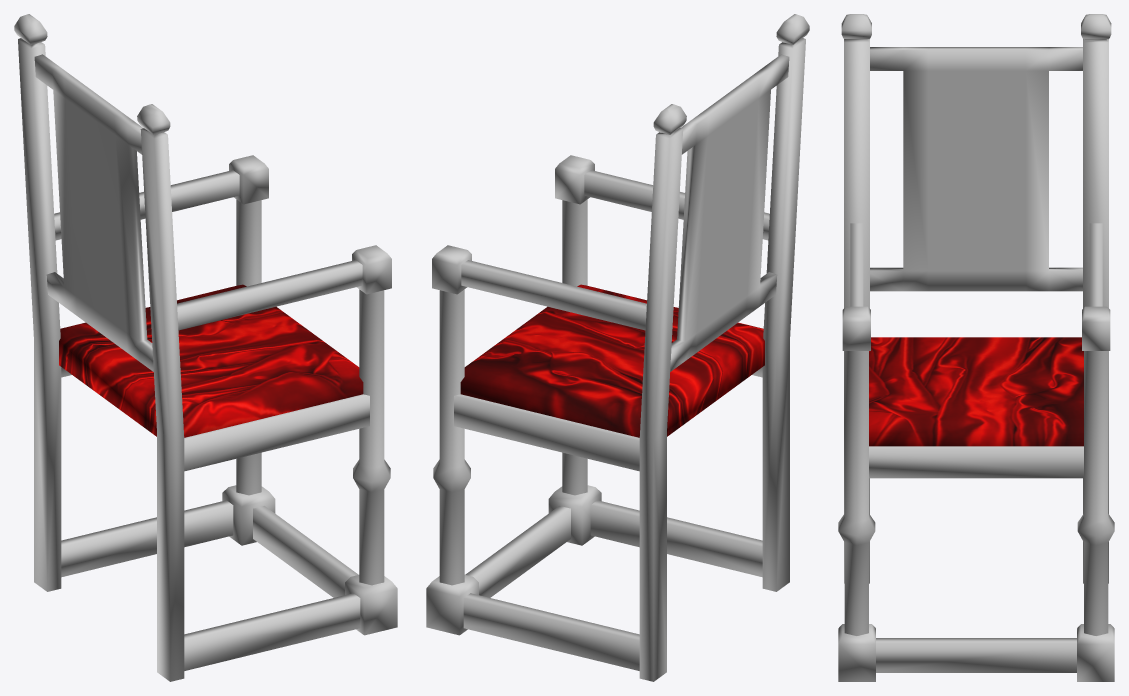
The model's file is chair.fbx.
The picture shows the model from 3 angles, left to right: view 1: azimuth 30°, elevation 25°; view 2: azimuth 150°, elevation 25°; view 3: azimuth 270°, elevation 25°; orthographic projection. The views are drawn at different scales.
Parts seen in each view (by area): view 1: chair; view 2: chair; view 3: chair.
Part boxes in pixels (left/top/right/bottom): chair: left=14, top=14, right=397, bottom=681; chair: left=426, top=14, right=809, bottom=681; chair: left=838, top=14, right=1114, bottom=681.
Bounding box in the file's own units: 50.49 × 112 × 50.45.
